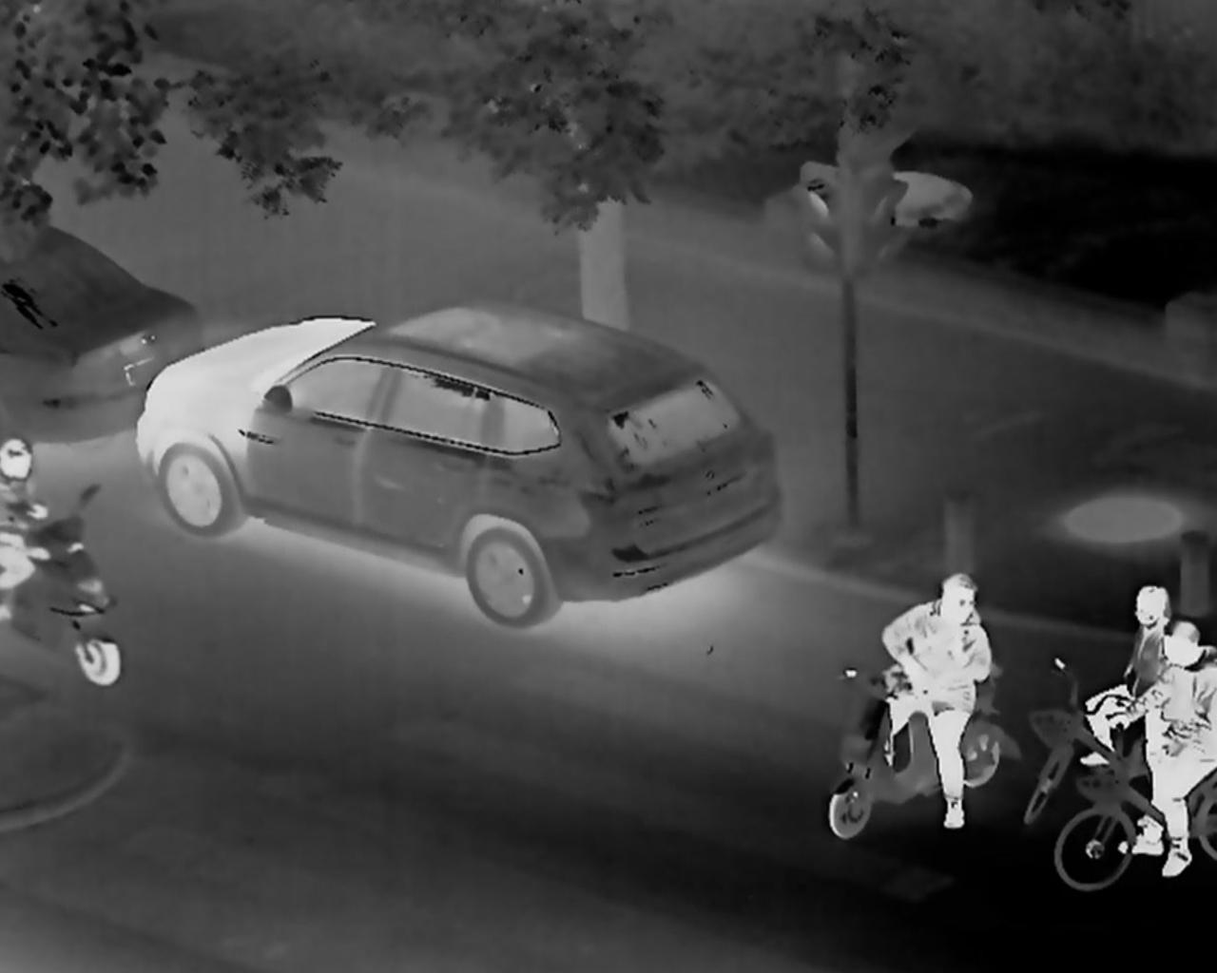person: (1097, 611, 1216, 876), (874, 568, 991, 833), (1072, 582, 1161, 823)
